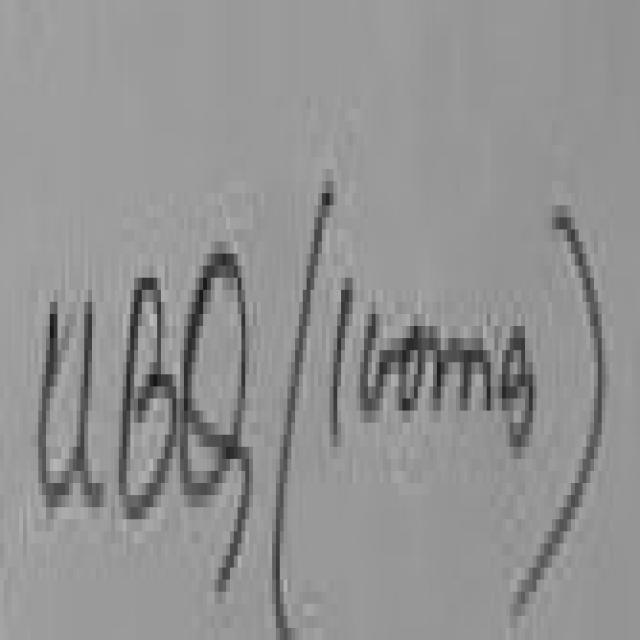0: (364, 314, 385, 424), (400, 326, 425, 405)
1: (333, 278, 356, 441)
B: (123, 278, 176, 523), (130, 302, 172, 499)
Q: (180, 254, 253, 586)
U: (38, 302, 103, 507)
g: (506, 326, 537, 441)
m: (429, 326, 494, 411)
